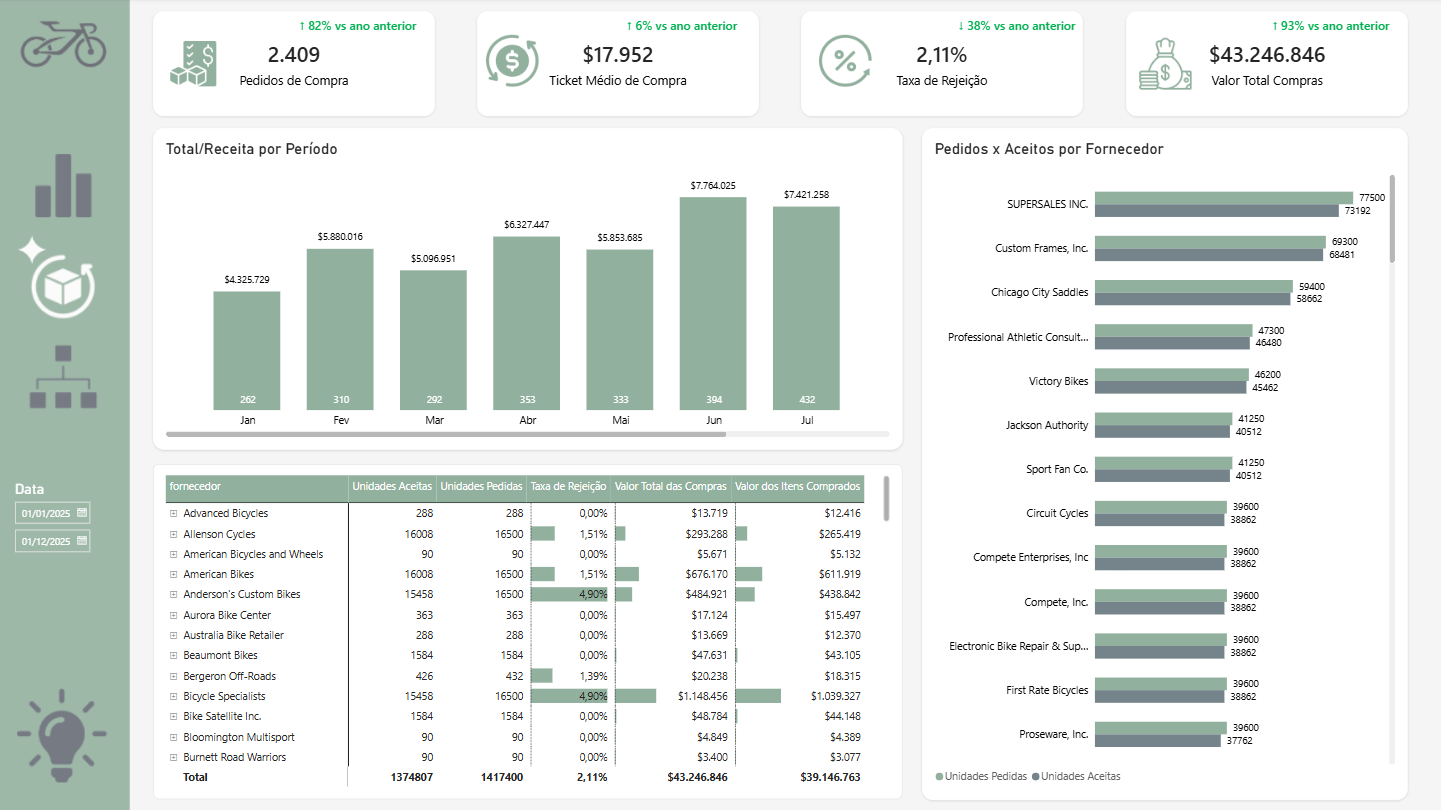

This screenshot's page, from the dashboard's own definition file:
{"tool":"powerbi","page":{"name":"Compras ","canvas":[1920,1080],"ordinal":2},"visuals":[{"type":"card","fields":{"Values":["Medidas.Pedidos de Compra"]},"box":[204.4,16.7,375,140.4],"z":0},{"type":"card","fields":{"Values":["Medidas.Ticket Médio de Compra"]},"box":[635.8,16.7,375,140.4],"z":1000},{"type":"card","fields":{"Values":["Medidas.Taxa de Rejeição"]},"box":[1067.3,16.7,375,140.4],"z":2000},{"type":"card","fields":{"Values":["Medidas.Valor Total das Compras"]},"box":[1498.7,16.7,375.4,140.4],"z":3000},{"type":"clusteredBarChart","title":"Pedidos x Aceitos por Fornecedor","fields":{"Y":["Medidas.Unidades Pedidas","Medidas.Unidades Aceitas"],"Category":["fCompras.nome_fornecedor"]},"box":[1227.6,172.4,646.5,894],"z":4000},{"type":"pivotTable","fields":{"Rows":["fCompras.nome_fornecedor","fCompras.nome_produto"],"Values":["Medidas.Unidades Aceitas","Medidas.Unidades Pedidas","Medidas.Taxa de Rejeição","Medidas.Valor Total das Compras","Medidas.Valor dos Itens Comprados"]},"box":[204.4,620.1,996.8,446.3],"z":5000},{"type":"lineStackedColumnComboChart","title":"Total/Receita por Período","fields":{"Category":["dCalendário.Mês Abrev"],"Y2":["Medidas.Pedidos de Compra"],"Y":["Medidas.Valor Total das Compras"]},"box":[204.4,172.4,996.8,428.2],"z":6000},{"type":"slicer","fields":{"Values":["dCalendário.Data"]},"box":[13.9,640.9,148.8,190.5],"z":7000},{"type":"card","fields":{"Values":["Medidas.Variação Rejeição Texto"]},"box":[1251.3,4.2,204.4,72.3],"z":8000},{"type":"card","fields":{"Values":["Medidas.Variação TKM Texto"]},"box":[806.4,4.2,204.4,72.3],"z":9000},{"type":"card","fields":{"Values":["Medidas.Variação Pedido Texto"]},"box":[375.4,4.2,204.4,72.3],"z":10000},{"type":"card","fields":{"Values":["Medidas.Variação Valor Compras"]},"box":[1669.7,4.2,204.4,72.3],"z":11000},{"type":"image","box":[1090,36.1,69.5,94.5],"z":12000},{"type":"image","box":[647.9,36.1,69.5,94.5],"z":13000},{"type":"image","box":[1516.8,40.3,69.5,94.5],"z":14000},{"type":"image","box":[223.8,40.3,69.5,94.5],"z":15000},{"type":"actionButton","box":[13.3,917.7,149,149],"z":15001}]}

Visuals, with their boxes on the page's 1920x1080 design canvas (x1, y1, x2, y2). These are canvas units, not pixel positions in the 1441x810 screenshot, which may show the page scaled, cropped or inside an application window:
card - Medidas.Pedidos de Compra: bbox(204, 17, 579, 157)
card - Medidas.Ticket Médio de Compra: bbox(636, 17, 1011, 157)
card - Medidas.Taxa de Rejeição: bbox(1067, 17, 1442, 157)
card - Medidas.Valor Total das Compras: bbox(1499, 17, 1874, 157)
"Pedidos x Aceitos por Fornecedor" clusteredBarChart: bbox(1228, 172, 1874, 1066)
pivotTable - fCompras.nome_fornecedor x fCompras.nome_produto: bbox(204, 620, 1201, 1066)
"Total/Receita por Período" lineStackedColumnComboChart: bbox(204, 172, 1201, 601)
slicer - dCalendário.Data: bbox(14, 641, 163, 831)
card - Medidas.Variação Rejeição Texto: bbox(1251, 4, 1456, 76)
card - Medidas.Variação TKM Texto: bbox(806, 4, 1011, 76)
card - Medidas.Variação Pedido Texto: bbox(375, 4, 580, 76)
card - Medidas.Variação Valor Compras: bbox(1670, 4, 1874, 76)
image: bbox(1090, 36, 1160, 131)
image: bbox(648, 36, 717, 131)
image: bbox(1517, 40, 1586, 135)
image: bbox(224, 40, 293, 135)
actionButton: bbox(13, 918, 162, 1067)
